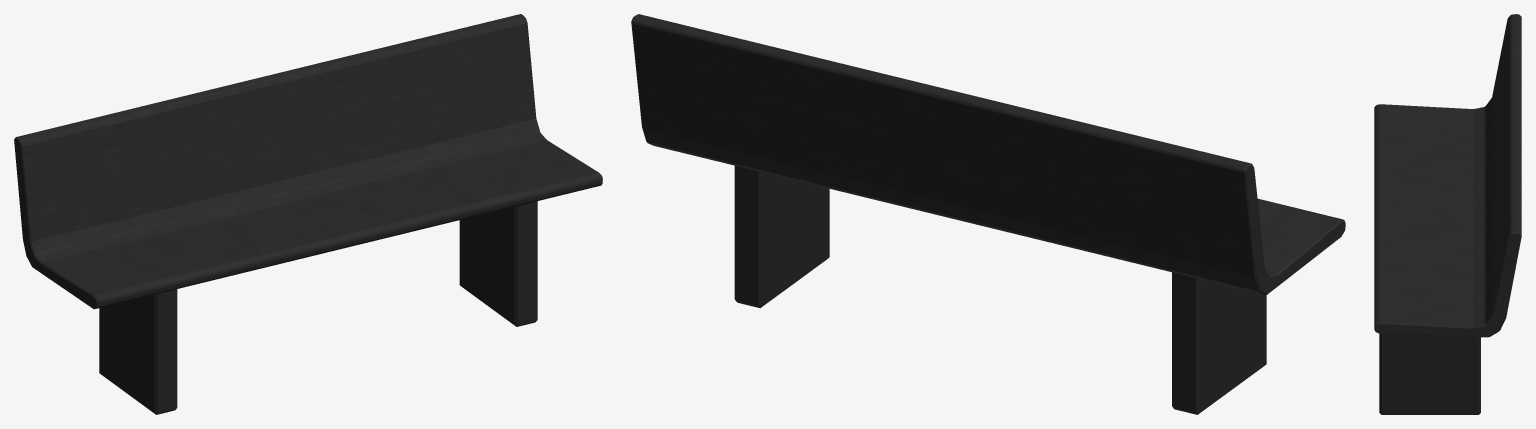
The model's file is bench.glb.
The picture shows the model from 3 angles, left to right: view 1: azimuth 30°, elevation 25°; view 2: azimuth 150°, elevation 25°; view 3: azimuth 270°, elevation 25°; orthographic projection. The views are drawn at different scales.
Visible parts, largest first — view 1: Mall Bench; view 2: Mall Bench; view 3: Mall Bench.
Part boxes in pixels (box(x1,y1,x2,y2)): Mall Bench: box(14, 14, 602, 414); Mall Bench: box(631, 14, 1345, 414); Mall Bench: box(1374, 14, 1521, 414).
Bounding box in the file's own units: 1.8 × 0.8045 × 0.5128.
1 material, 1 textured.
